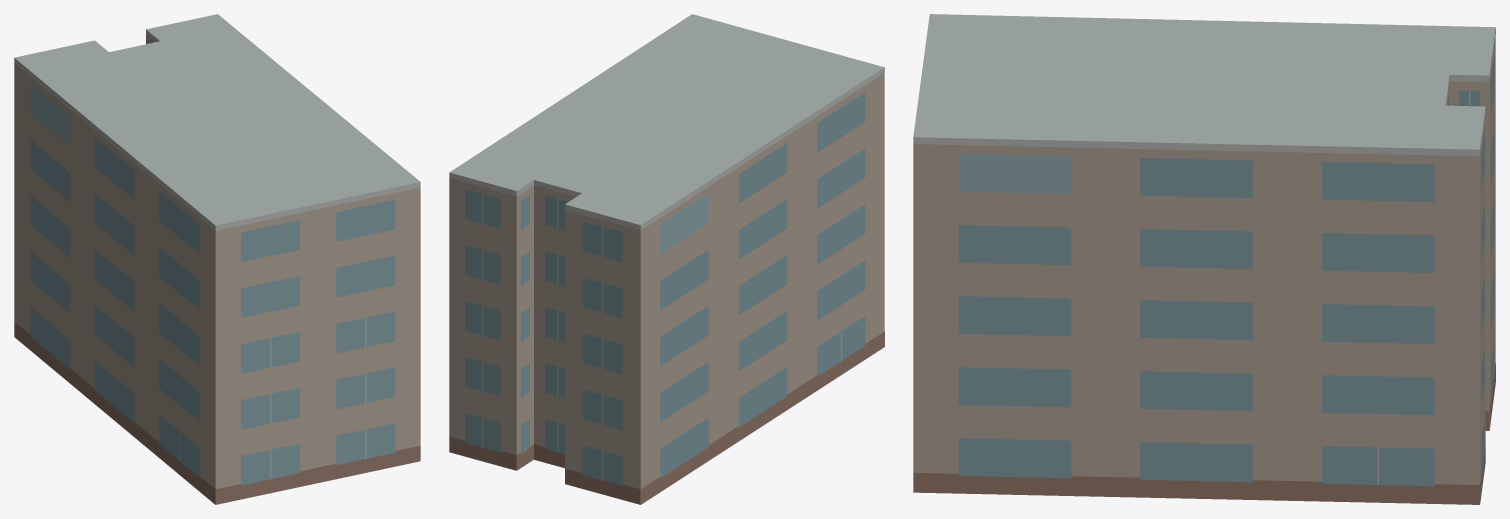
File: survey-upis-32917393.glb
3 renders of one model, left to right at view 1: azimuth 30°, elevation 25°; view 2: azimuth 150°, elevation 25°; view 3: azimuth 270°, elevation 25°, orthographic. The views are drawn at different scales.
Parts seen in each view (by area): view 1: survey-upis-32917393.tmp; view 2: survey-upis-32917393.tmp; view 3: survey-upis-32917393.tmp.
Boxes of the visible parts, x1,y1,x2,y2 form: survey-upis-32917393.tmp: [14, 14, 420, 504]; survey-upis-32917393.tmp: [449, 14, 884, 504]; survey-upis-32917393.tmp: [913, 14, 1495, 504].
Bounding box in the file's own units: 10.5 × 12.81 × 19.05.
